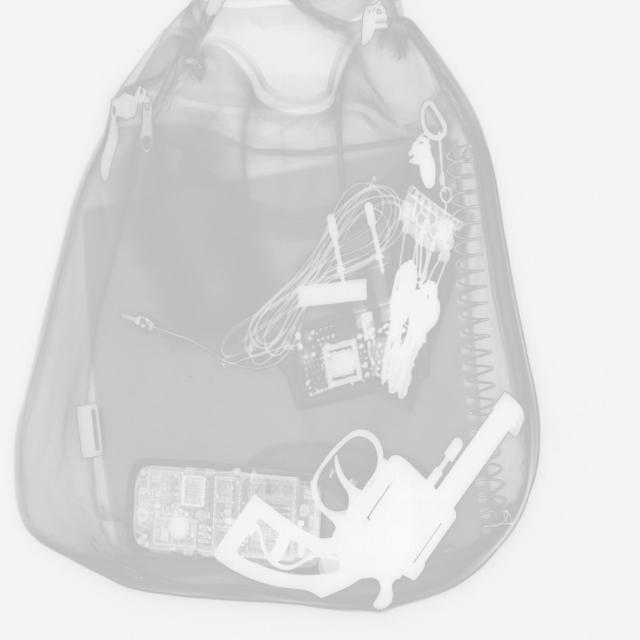pistol: (214, 388, 525, 607)
